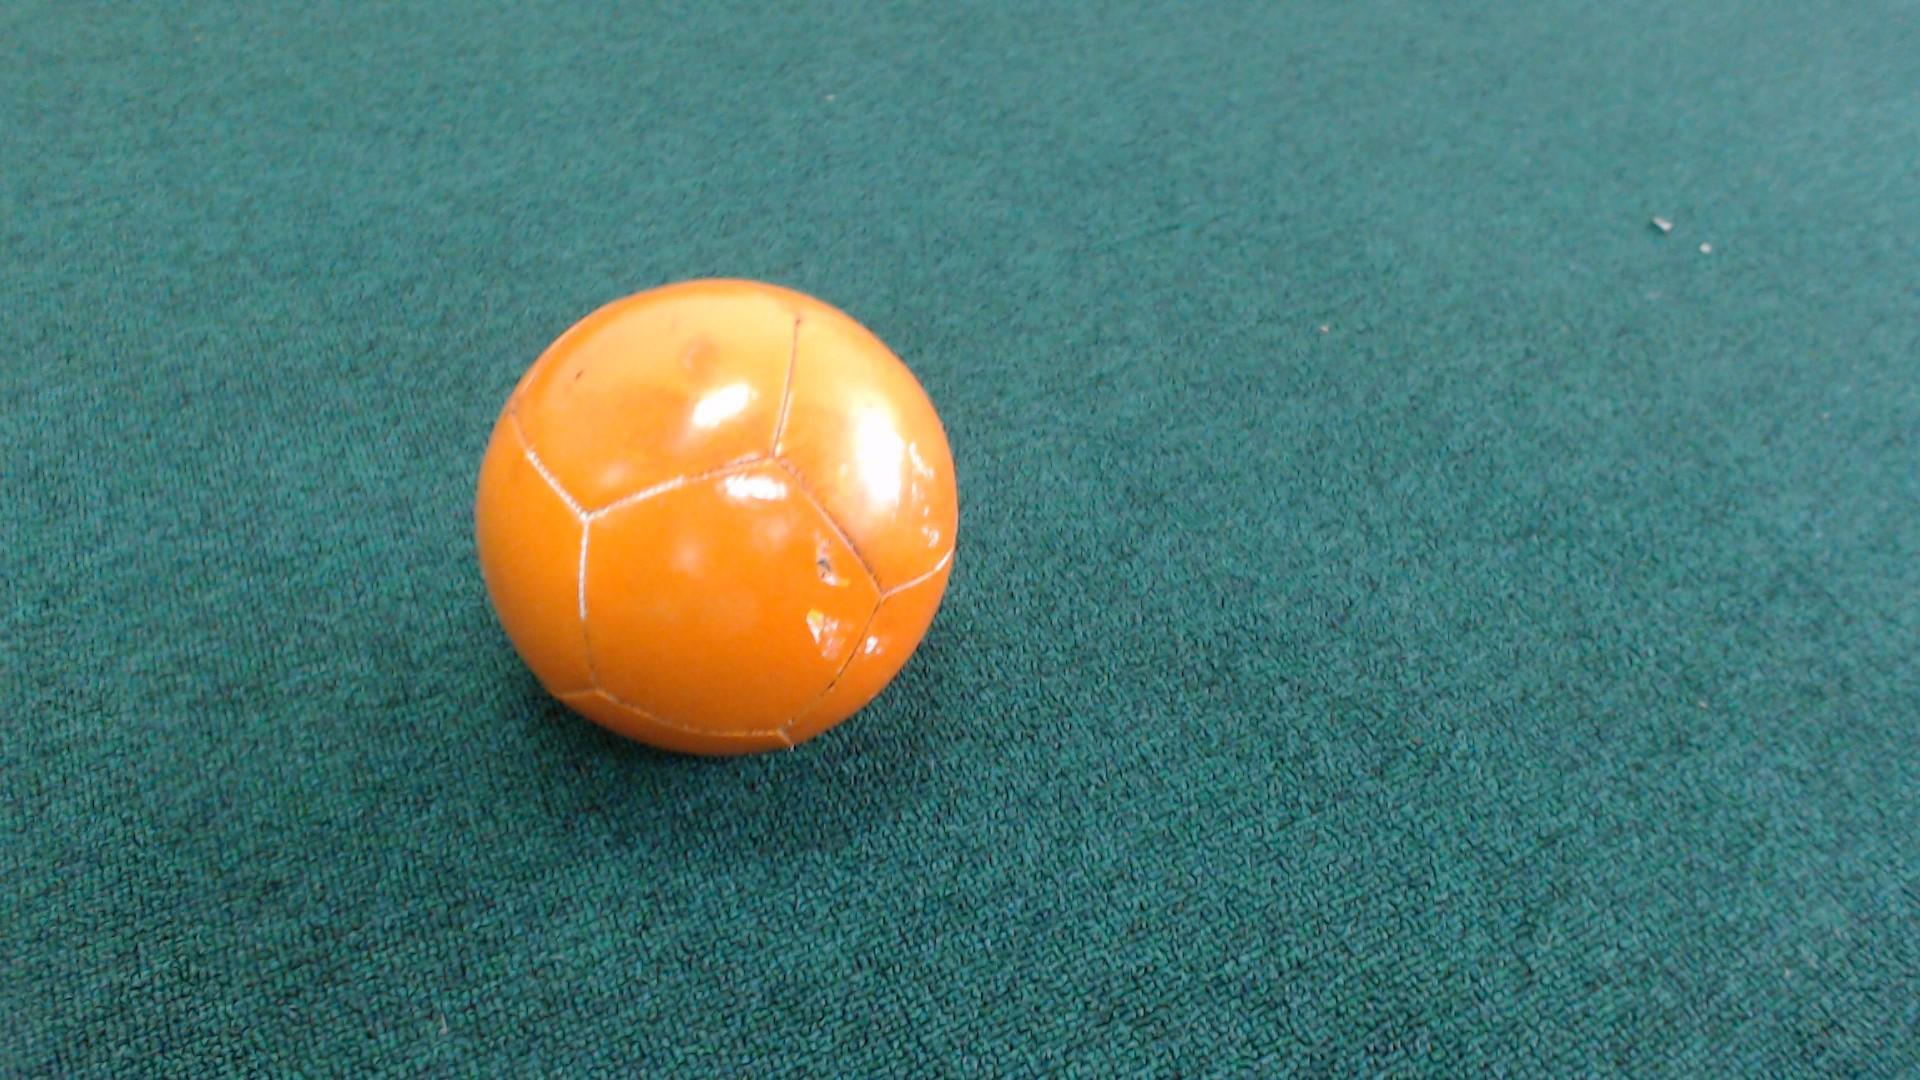bola: (434, 243, 1001, 785)
